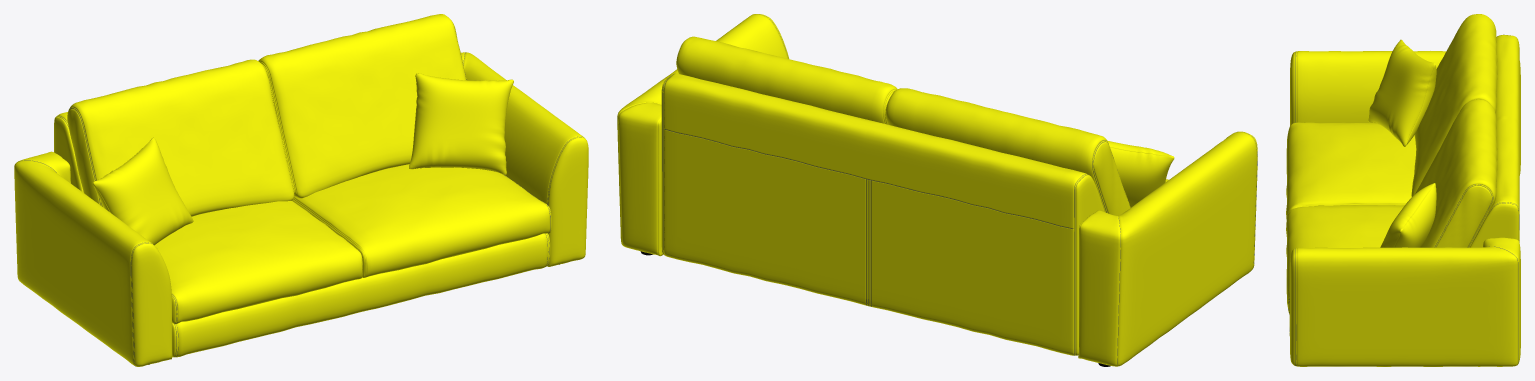
3 renders of one model, left to right at view 1: azimuth 30°, elevation 25°; view 2: azimuth 150°, elevation 25°; view 3: azimuth 270°, elevation 25°, orthographic. The views are drawn at different scales.
Visible parts, largest first — view 1: bodyyellowgreen, arnleft3, arnleft3.002; view 2: bodyyellowgreen, arnleft3, arnleft3.002; view 3: bodyyellowgreen, arnleft3.002, arnleft3.
Part boxes in pixels (box(x1,y1,x2,y2)): bodyyellowgreen: box(54, 14, 551, 357); arnleft3: box(14, 151, 172, 366); arnleft3.002: box(461, 52, 588, 266); bodyyellowgreen: box(661, 36, 1174, 355); arnleft3: box(1078, 131, 1257, 366); arnleft3.002: box(617, 14, 789, 256); bodyyellowgreen: box(1286, 14, 1519, 335); arnleft3.002: box(1290, 237, 1520, 366); arnleft3: box(1290, 51, 1520, 175).
Bounding box in the file's own units: 1.97 × 0.7707 × 0.9372.
7 materials, 5 textured.
